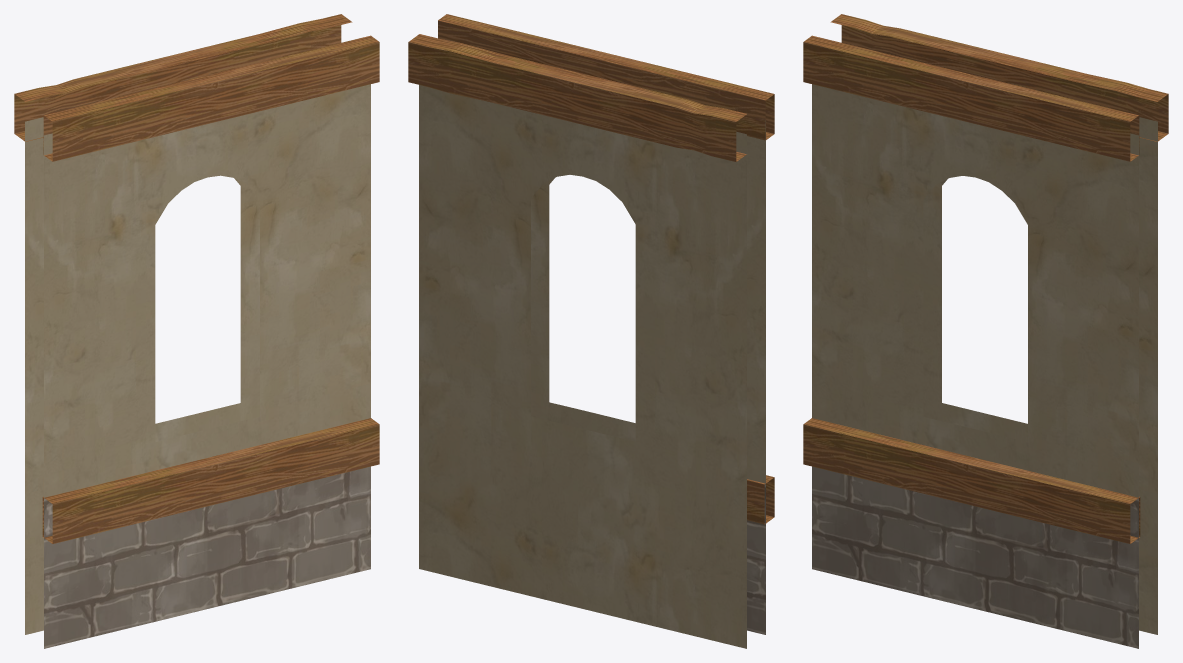
The model's file is Wall_Plaster_Window_Thin_Round.glb.
3 renders of one model, left to right at view 1: azimuth 30°, elevation 25°; view 2: azimuth 150°, elevation 25°; view 3: azimuth 330°, elevation 25°, orthographic.
Parts seen in each view (by area): view 1: Wall_Plaster_Window_Thin_Round; view 2: Wall_Plaster_Window_Thin_Round; view 3: Wall_Plaster_Window_Thin_Round.
Part boxes in pixels (x1,y1,x2,y2): Wall_Plaster_Window_Thin_Round: [14, 14, 379, 648]; Wall_Plaster_Window_Thin_Round: [408, 14, 774, 648]; Wall_Plaster_Window_Thin_Round: [803, 14, 1168, 648].
Size of the model in its own units: 2 by 3.12 by 0.4065.
Materials: 3 (3 with a texture image).
